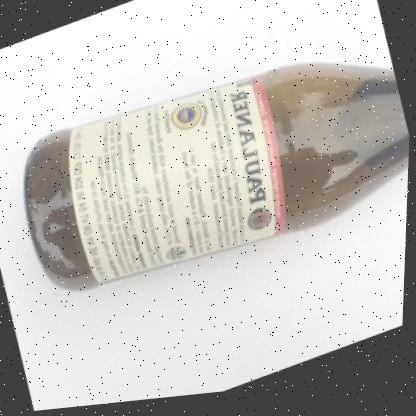Glass: (24, 69, 411, 285)
